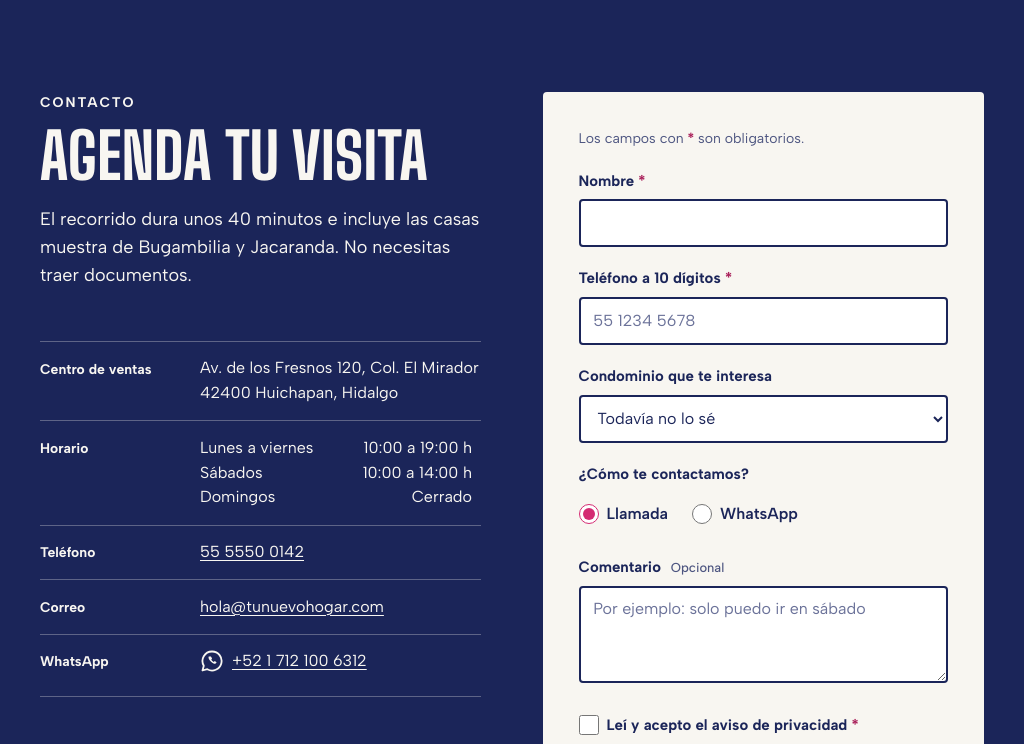
Test: Contact: validation › shows a field error when leaving that field
Click the checkbox labelled "Leí y acepto el aviso de privacidad *" at (588, 726), box [578,716,598,736]
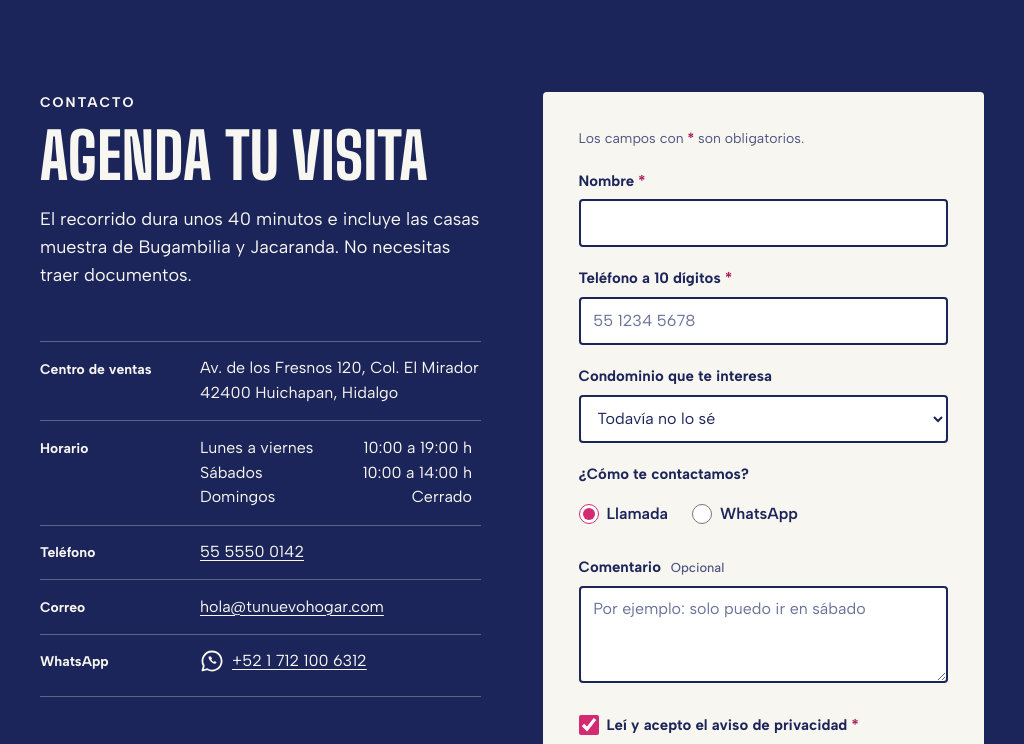
Leave the field labelled "Teléfono a 10 dígitos *", box [578,297,948,345]
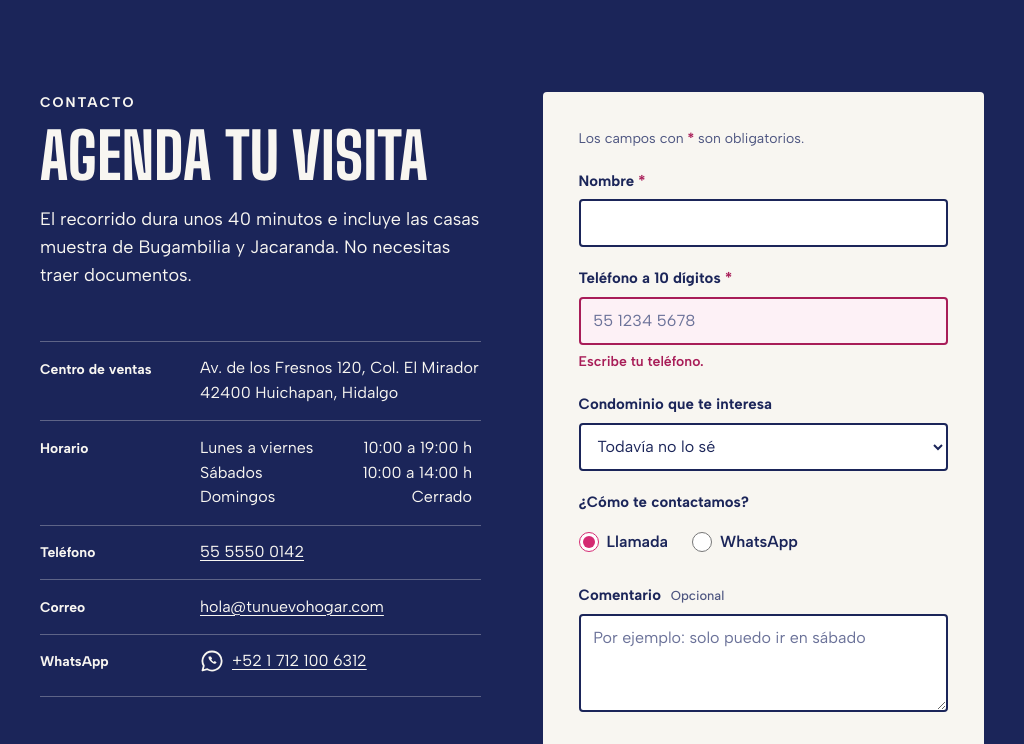
expect the text "Escribe tu teléfono." is shown: met, box [578,353,704,370]
